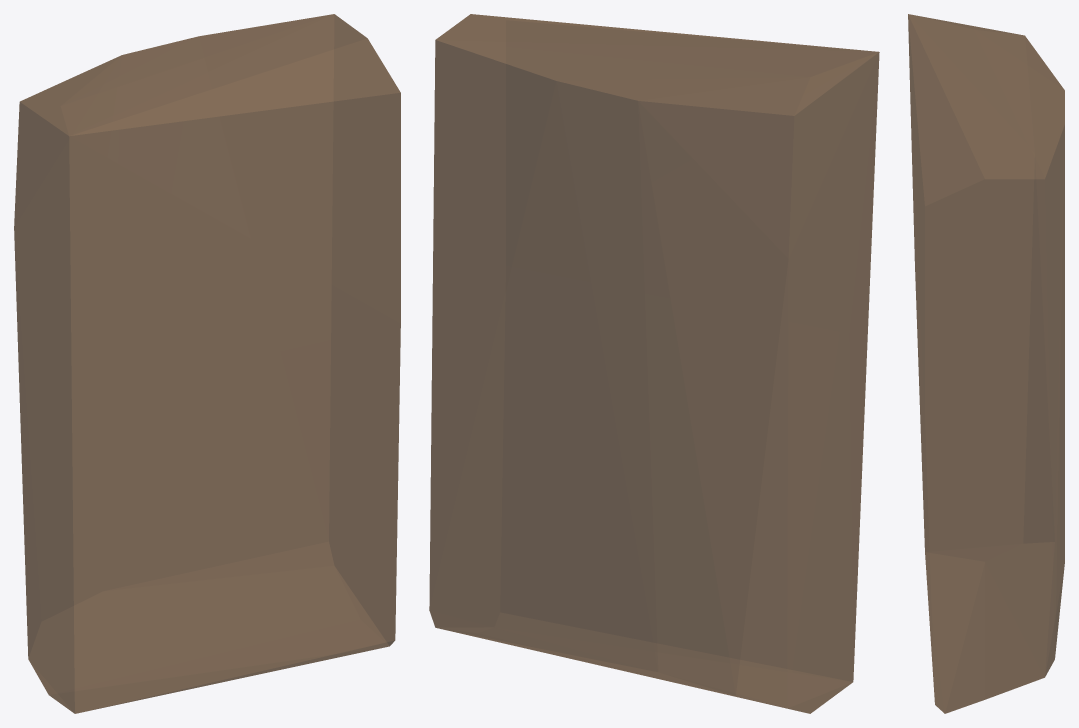
3 renders of one model, left to right at view 1: azimuth 30°, elevation 25°; view 2: azimuth 150°, elevation 25°; view 3: azimuth 270°, elevation 25°, orthographic. The views are drawn at different scales.
Visible parts, largest first — view 1: Shape_IndexedFaceSet.021_Shape_IndexedFaceSet.18082; view 2: Shape_IndexedFaceSet.021_Shape_IndexedFaceSet.18082; view 3: Shape_IndexedFaceSet.021_Shape_IndexedFaceSet.18082.
Part boxes in pixels (x1,y1,x2,y2): Shape_IndexedFaceSet.021_Shape_IndexedFaceSet.18082: (14,14,400,713); Shape_IndexedFaceSet.021_Shape_IndexedFaceSet.18082: (429,14,879,713); Shape_IndexedFaceSet.021_Shape_IndexedFaceSet.18082: (908,14,1064,713).
Size of the model in its own units: 0.1051 by 0.1791 by 0.0464.
